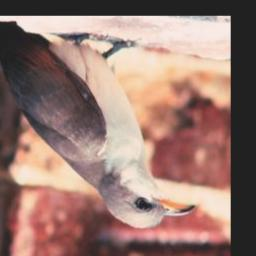Cuckoo: (0, 20, 196, 229)
